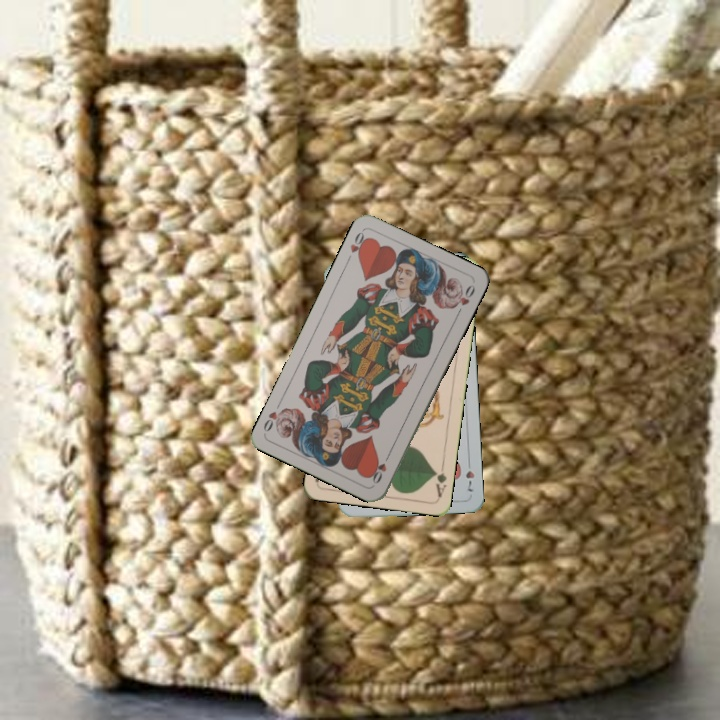GA: (430, 459, 449, 500)
H7: (462, 456, 477, 495)
HO: (343, 228, 371, 265), (368, 449, 393, 487)
